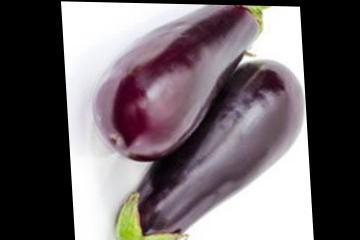eggplant: (91, 3, 300, 239)
